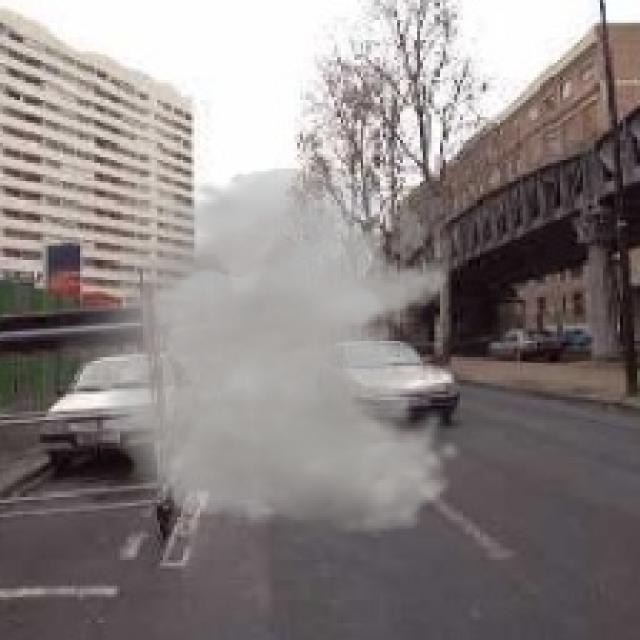Smoke: (46, 168, 463, 534)
